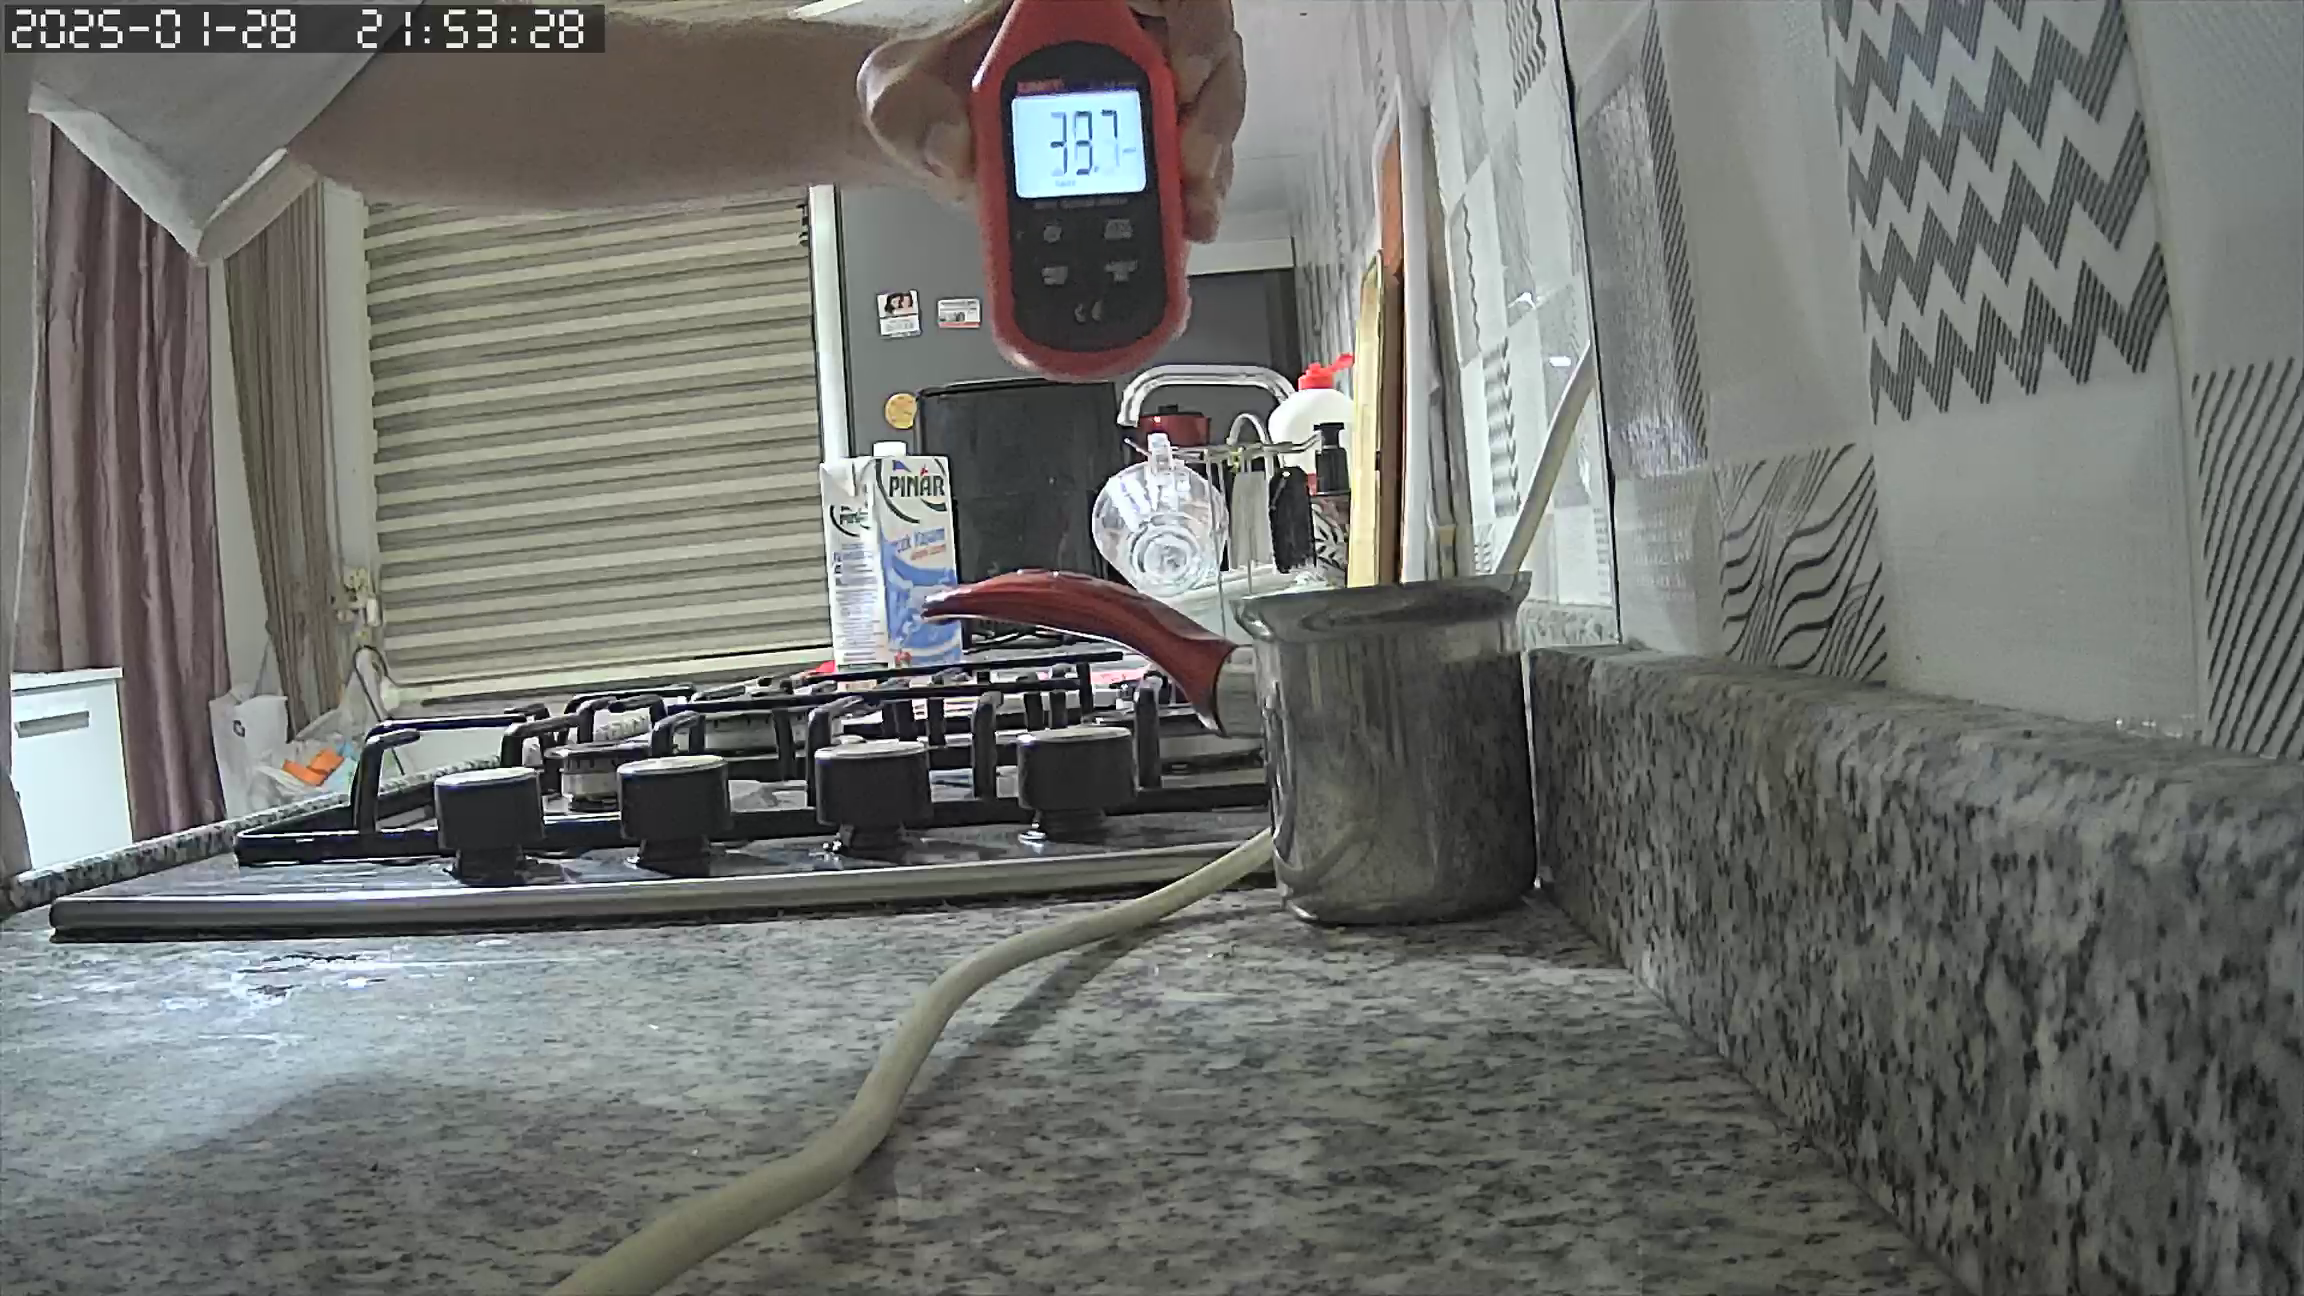screen: (1008, 89, 1147, 196)
